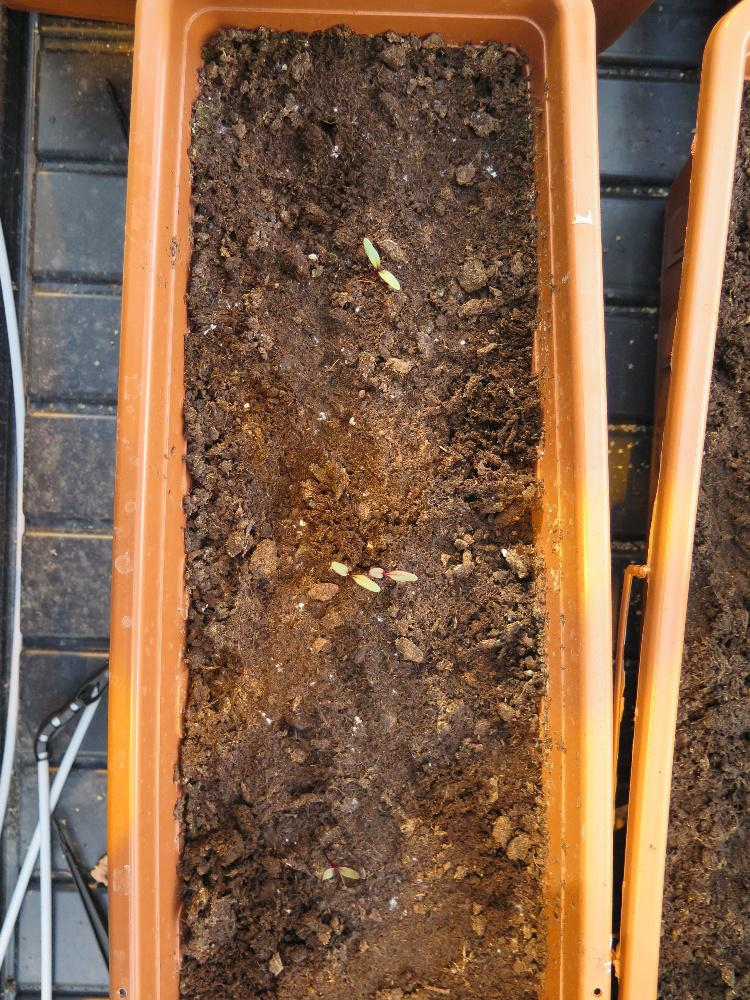crop: (361, 232, 401, 293), (319, 861, 359, 881)
